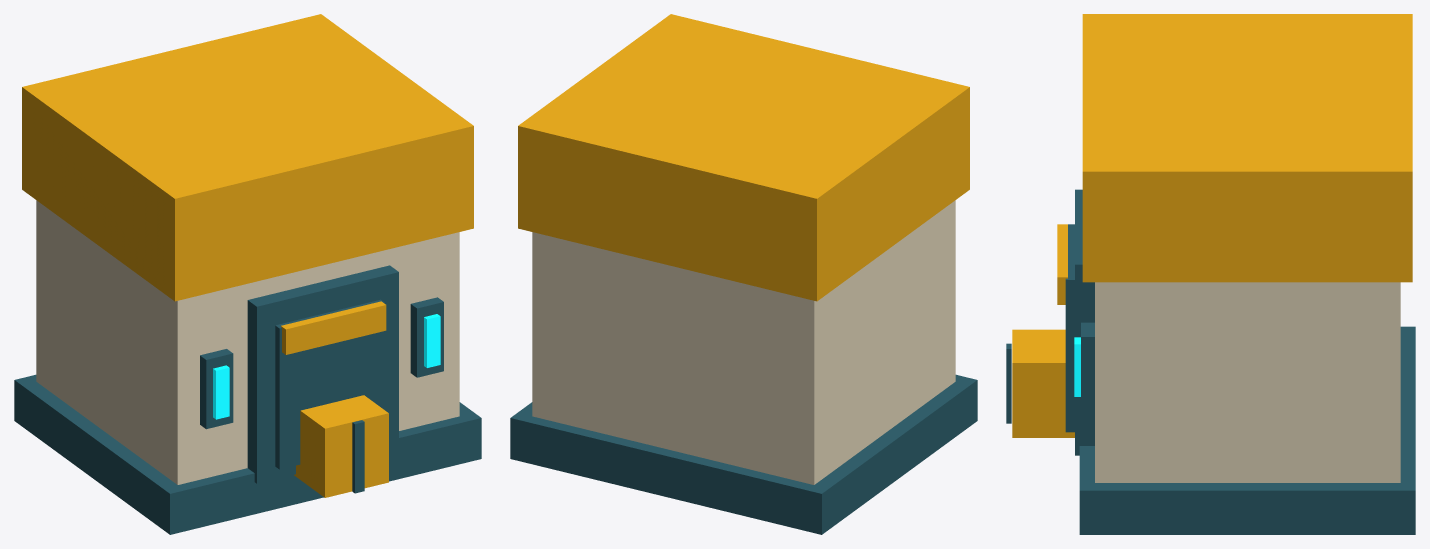
Rendered from storage.glb.
3 views of the same model, side by side, from view 1: azimuth 30°, elevation 25°; view 2: azimuth 150°, elevation 25°; view 3: azimuth 270°, elevation 25° (orthographic). The views are drawn at different scales.
Parts seen in each view (by area): view 1: Golden roof, Storage building, Storage foundation, Door frame, Door opening, Cargo, Door top shutter, Storage indicator bezel, Storage indicator bezel.001, Cargo strap, Storage indicator, Storage indicator.001; view 2: Golden roof, Storage building, Storage foundation; view 3: Golden roof, Storage building, Storage foundation, Cargo, Door frame, Door opening, Storage indicator bezel.001, Door top shutter, Cargo strap.
Part boxes in pixels (x1,y1,x2,y2): Golden roof: (22, 14, 473, 301); Storage building: (36, 200, 459, 484); Storage foundation: (14, 374, 481, 534); Door frame: (247, 265, 398, 483); Door opening: (275, 299, 384, 469); Cargo: (294, 395, 388, 497); Door top shutter: (281, 301, 386, 354); Storage indicator bezel: (200, 349, 233, 429); Storage indicator bezel.001: (410, 297, 443, 377); Cargo strap: (352, 420, 364, 493); Storage indicator: (213, 365, 229, 419); Storage indicator.001: (424, 314, 440, 367); Golden roof: (518, 14, 969, 301); Storage building: (532, 200, 955, 484); Storage foundation: (510, 374, 977, 534); Golden roof: (1082, 14, 1412, 282); Storage building: (1095, 282, 1400, 482); Storage foundation: (1079, 326, 1415, 534); Cargo: (1012, 329, 1074, 437); Door frame: (1075, 189, 1094, 455); Door opening: (1065, 224, 1074, 432); Storage indicator bezel.001: (1081, 322, 1094, 411); Door top shutter: (1057, 224, 1067, 304); Cargo strap: (1006, 343, 1011, 423).
Bounding box in the file's own units: 1.27 × 1.3 × 1.34.
